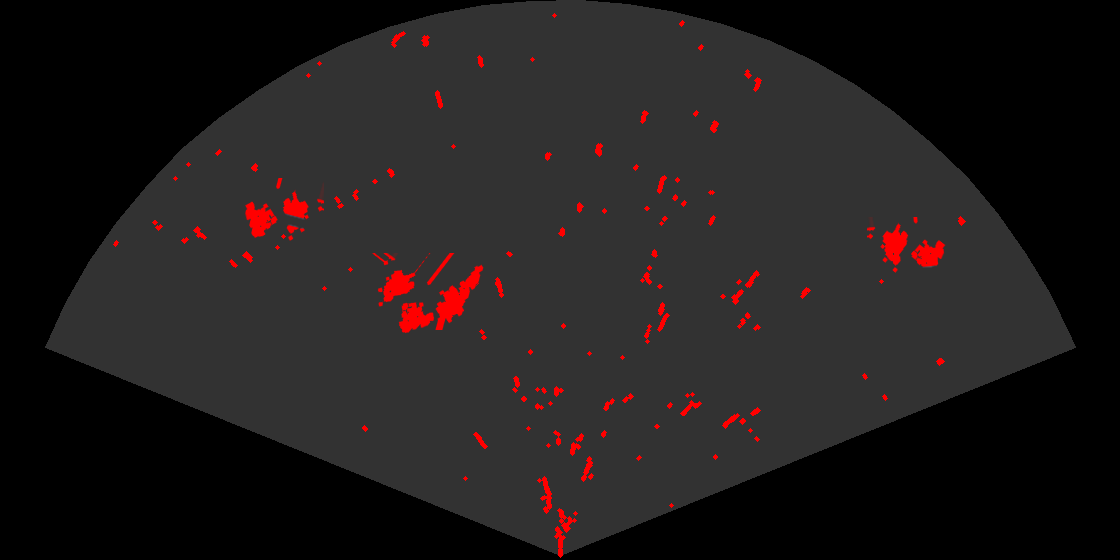cage: (371, 253, 455, 335), (243, 178, 324, 242), (867, 217, 947, 274)
frogman: (434, 263, 485, 330)
